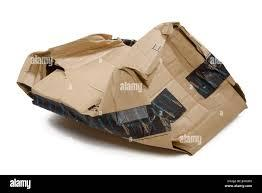damage_box: (15, 19, 248, 156)
